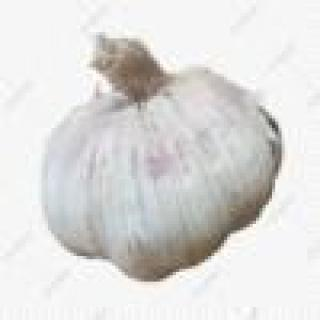Bawang Putih: (27, 27, 292, 289)
